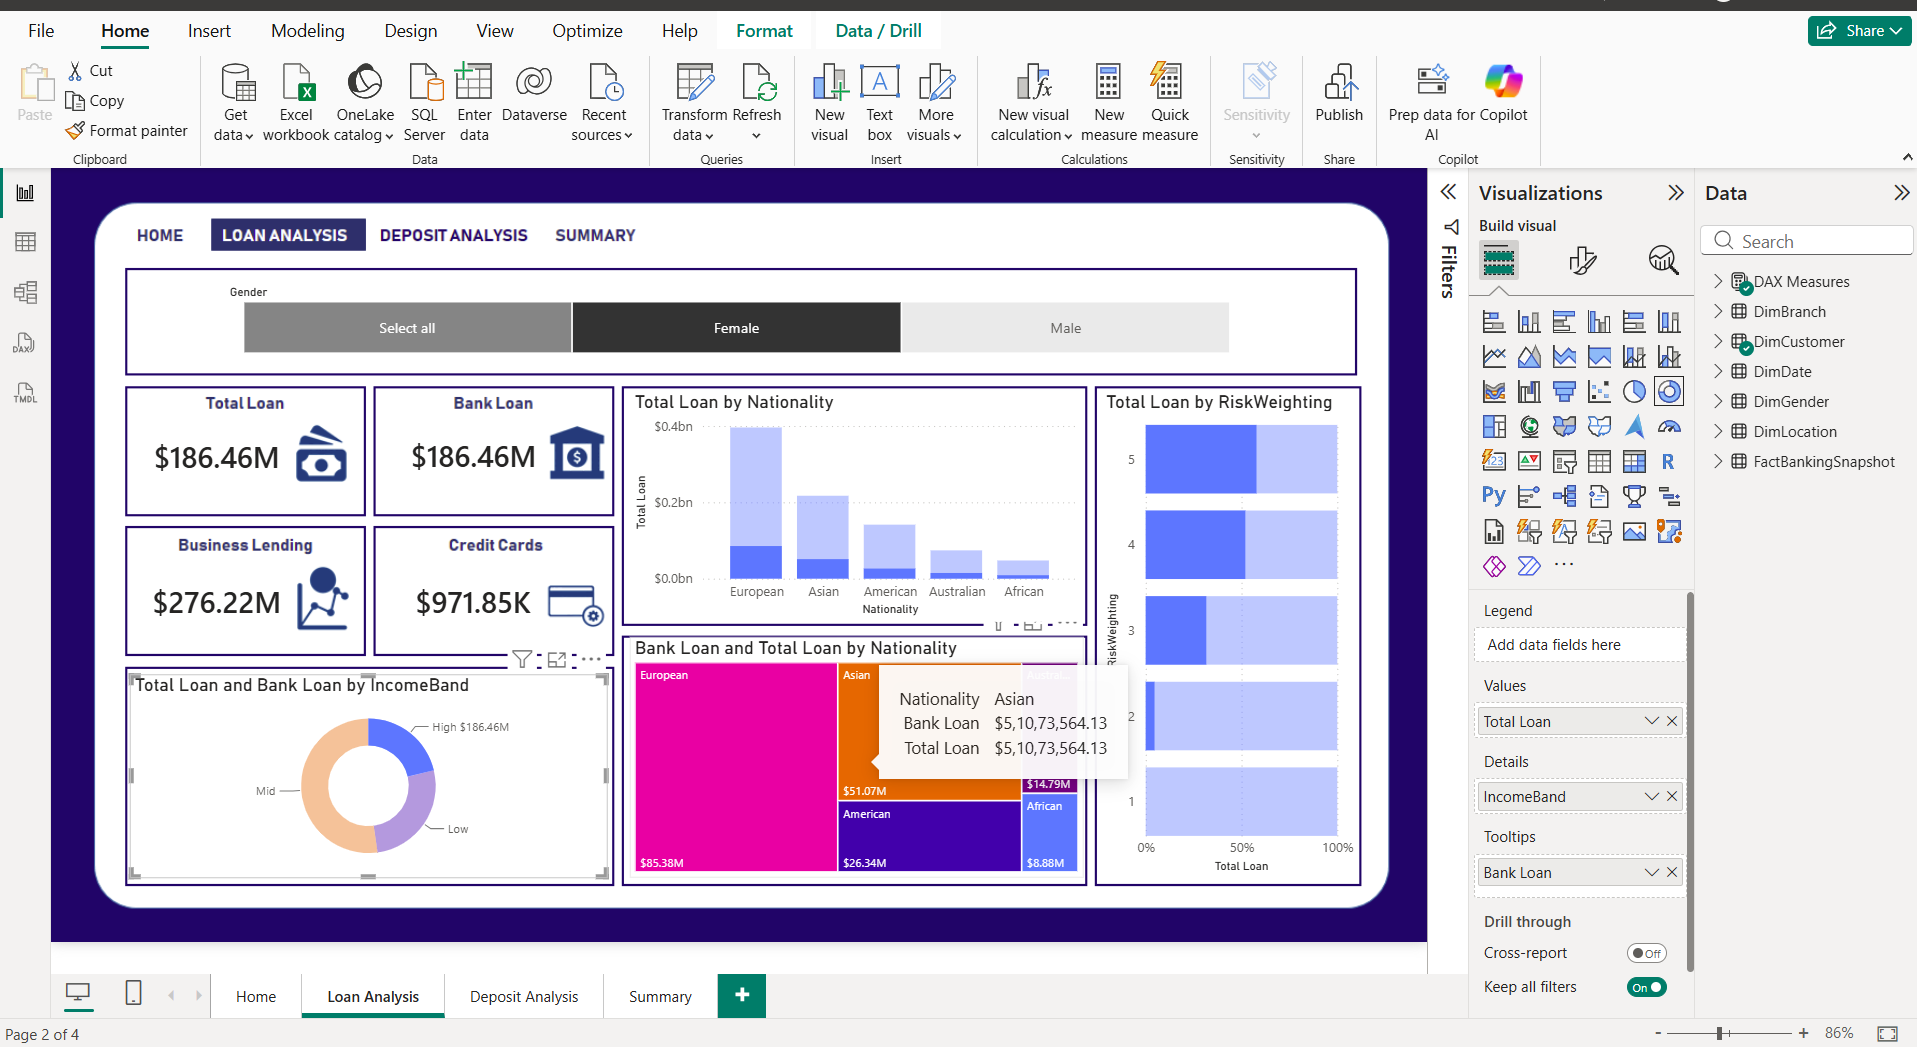

The page's visual inventory and layout, read from the dashboard file:
{"tool":"powerbi","page":{"name":"Loan Analysis","canvas":[1280,720],"ordinal":1},"visuals":[{"type":"card","fields":{"Values":["DAX Measures.Total Loan"]},"box":[72.7,224,161.8,90.3],"z":0},{"type":"card","fields":{"Values":["DAX Measures.Bank Loan"]},"box":[307.2,224,172.4,89.1],"z":1000},{"type":"card","fields":{"Values":["DAX Measures.Credit Cards"]},"box":[307.2,360,171.2,89.1],"z":2000},{"type":"card","fields":{"Values":["DAX Measures.Business Lending"]},"box":[72.7,360,161.8,89.1],"z":3000},{"type":"slicer","fields":{"Values":["DimGender.Gender"]},"box":[153.3,103.3,966.7,75],"z":4000},{"type":"donutChart","fields":{"Y":["DAX Measures.Total Loan"],"Series":["DimCustomer.IncomeBand"]},"box":[72.7,471.4,444.4,188.8],"z":5000},{"type":"treemap","fields":{"Values":["DAX Measures.Bank Loan"],"Details":["DimCustomer.Nationality"]},"box":[538.2,436.2,422.1,224],"z":6000},{"type":"actionButton","box":[73.3,60,58.3,15],"z":7000},{"type":"actionButton","box":[306.9,44.7,119.4,31],"z":8000},{"type":"actionButton","box":[471.6,44.2,83.6,31],"z":9000},{"type":"columnChart","fields":{"Y":["DAX Measures.Total Loan"],"Category":["DimCustomer.Nationality"]},"box":[538.3,206.7,421.7,215],"z":10000},{"type":"hundredPercentStackedBarChart","fields":{"Category":["FactBankingSnapshot.RiskWeighting"],"Y":["DAX Measures.Total Loan"]},"box":[976.7,206.7,240,453.3],"z":11000}]}

Visuals, with their boxes on the page's 1280x720 design canvas (x1, y1, x2, y2). These are canvas units, not pixel positions in the 1917x1047 screenshot, which may show the page scaled, cropped or inside an application window:
card - DAX Measures.Total Loan: {"left": 73, "top": 224, "right": 234, "bottom": 314}
card - DAX Measures.Bank Loan: {"left": 307, "top": 224, "right": 480, "bottom": 313}
card - DAX Measures.Credit Cards: {"left": 307, "top": 360, "right": 478, "bottom": 449}
card - DAX Measures.Business Lending: {"left": 73, "top": 360, "right": 234, "bottom": 449}
slicer - DimGender.Gender: {"left": 153, "top": 103, "right": 1120, "bottom": 178}
donutChart - DAX Measures.Total Loan x DimCustomer.IncomeBand: {"left": 73, "top": 471, "right": 517, "bottom": 660}
treemap - DAX Measures.Bank Loan x DimCustomer.Nationality: {"left": 538, "top": 436, "right": 960, "bottom": 660}
actionButton: {"left": 73, "top": 60, "right": 132, "bottom": 75}
actionButton: {"left": 307, "top": 45, "right": 426, "bottom": 76}
actionButton: {"left": 472, "top": 44, "right": 555, "bottom": 75}
columnChart - DAX Measures.Total Loan x DimCustomer.Nationality: {"left": 538, "top": 207, "right": 960, "bottom": 422}
hundredPercentStackedBarChart - FactBankingSnapshot.RiskWeighting x DAX Measures.Total Loan: {"left": 977, "top": 207, "right": 1217, "bottom": 660}
